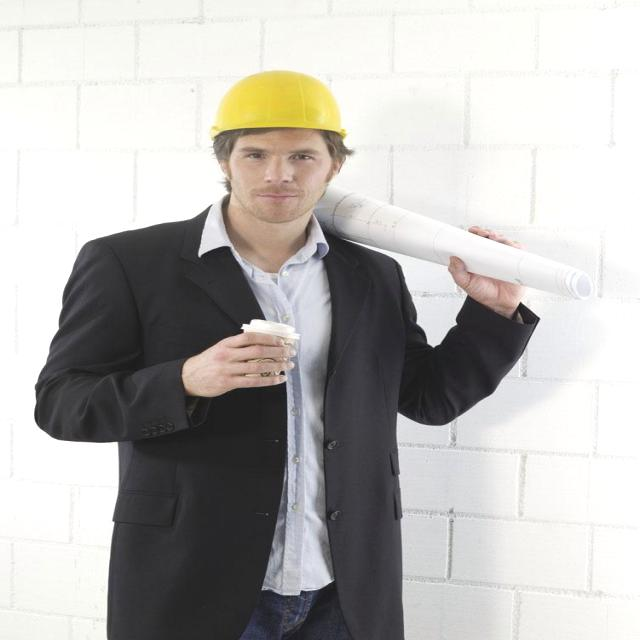face_nomask: (219, 147, 326, 218)
hand_noglove: (188, 335, 311, 397)
head_helmet: (190, 60, 364, 142)
person: (54, 13, 538, 640)
